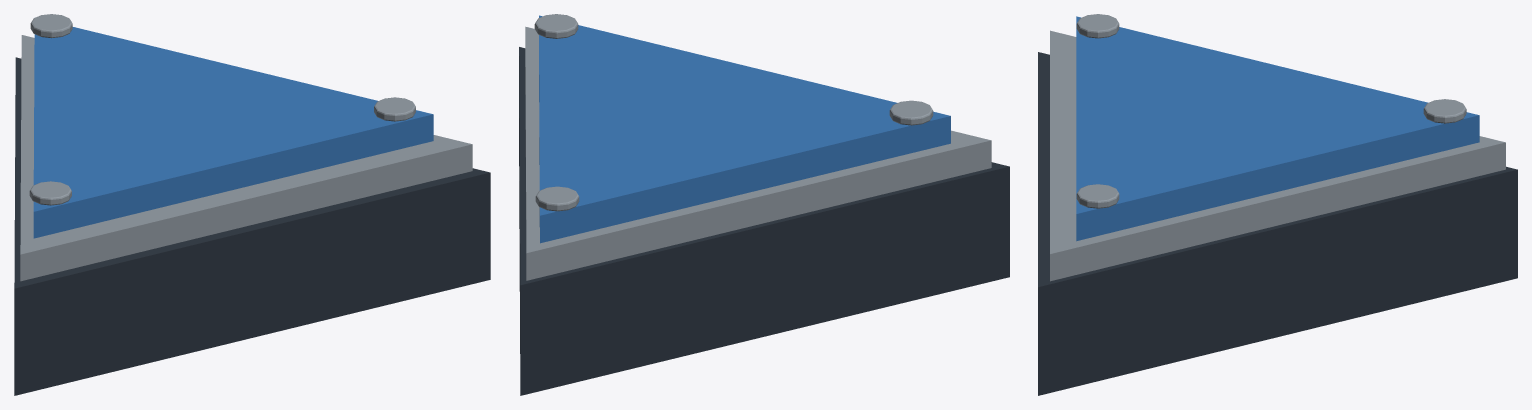
Rendered from triangle-target.glb.
3 renders of one model, left to right at view 1: azimuth 30°, elevation 25°; view 2: azimuth 150°, elevation 25°; view 3: azimuth 270°, elevation 25°, orthographic. The views are drawn at different scales.
Parts seen in each view (by area): view 1: Housing, Strike_surface, MESH_Brushed_Metal; view 2: Housing, Strike_surface, MESH_Brushed_Metal; view 3: Housing, Strike_surface, MESH_Brushed_Metal.
Part boxes in pixels (x1,y1,x2,y2): Housing: (14,57,490,395); Strike_surface: (33,27,433,238); MESH_Brushed_Metal: (20,14,472,281); Housing: (519,47,1009,395); Strike_surface: (539,15,950,243); MESH_Brushed_Metal: (525,14,991,280); Housing: (1038,52,1517,395); Strike_surface: (1076,16,1479,241); MESH_Brushed_Metal: (1050,14,1505,281).
Bounding box in the file's own units: 0.65 × 0.22 × 0.56.
